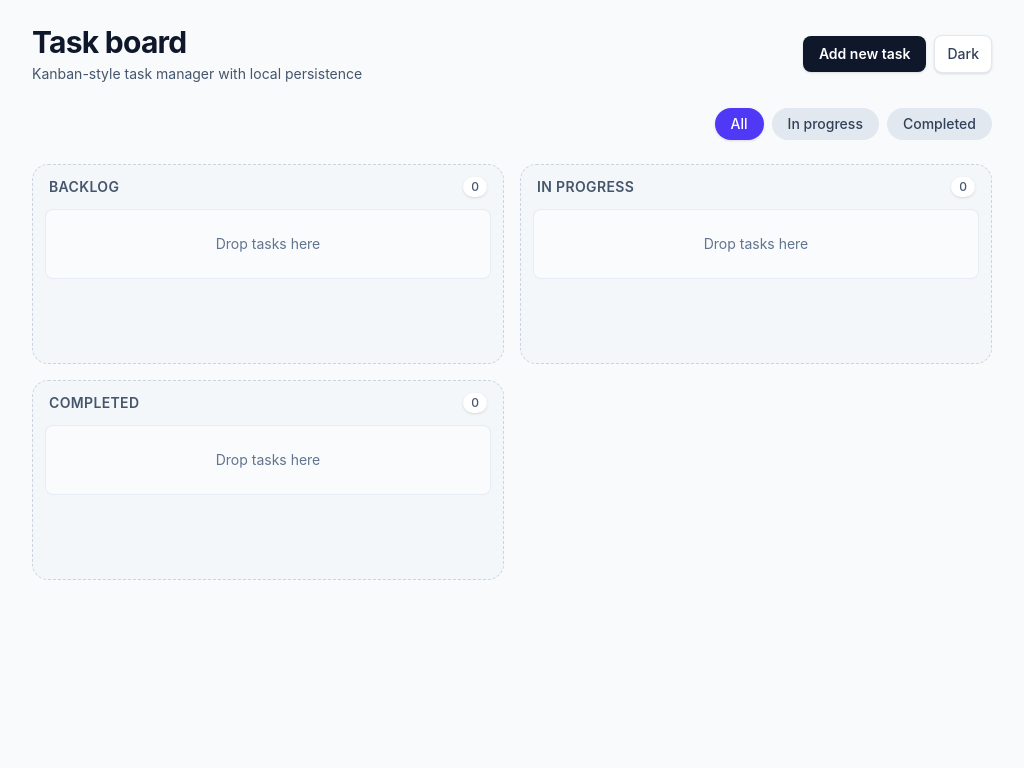
Test: App › deletes task when confirm is accepted
Click the button "Add new task" at point(865, 54), box [803, 36, 926, 72]
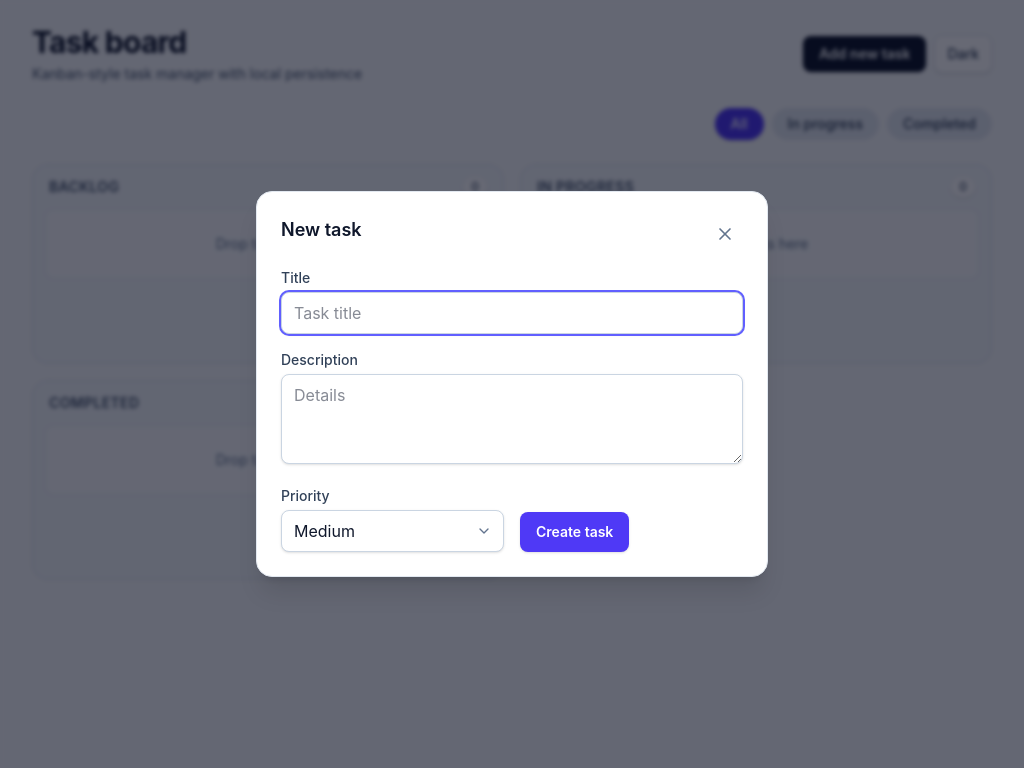
Type "Remove me" into the field with placeholder "Task title" at point(512, 313), box [281, 292, 743, 334]
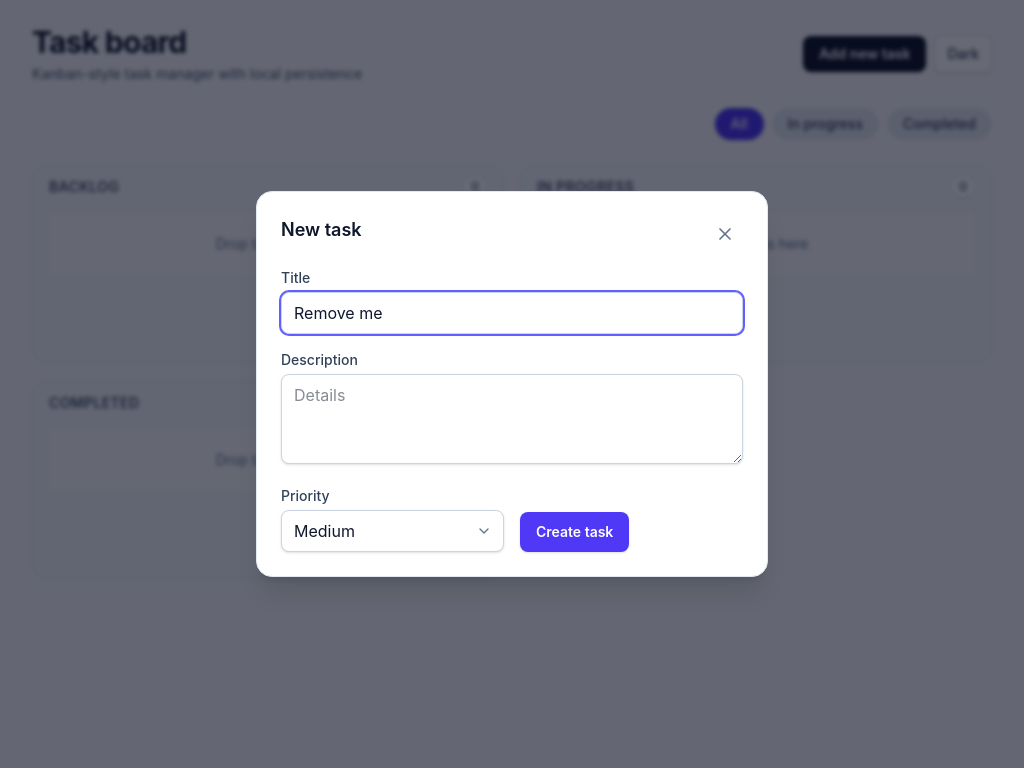
Click the button "Create task" at point(575, 532), box [520, 512, 629, 552]
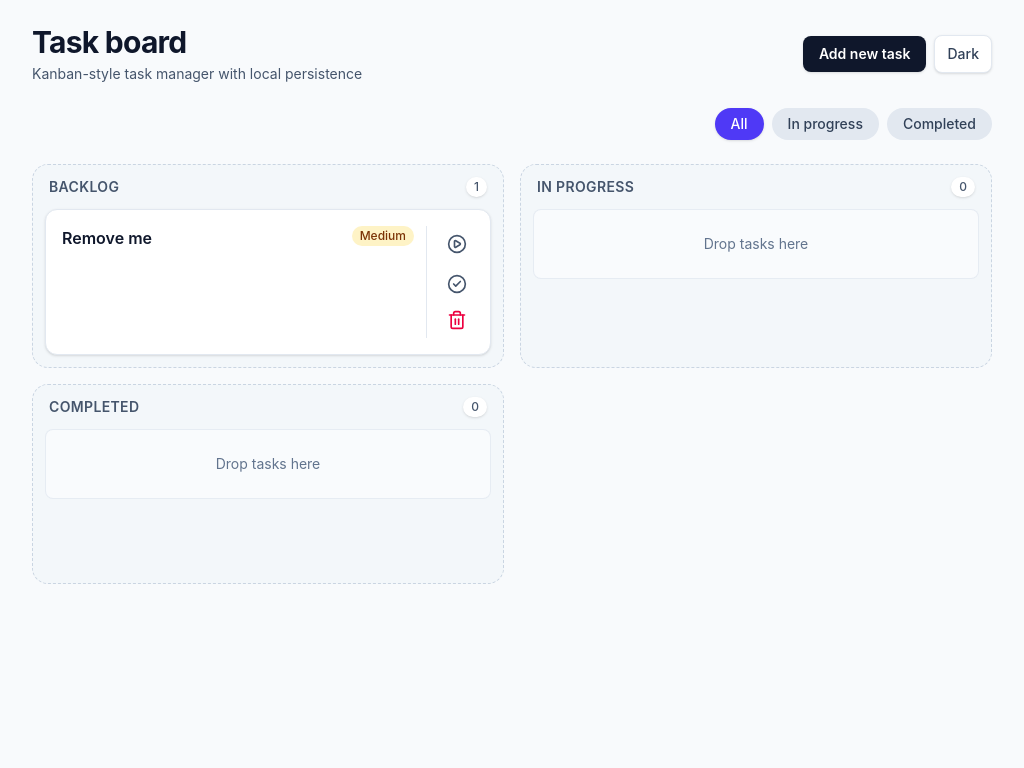
Click the button named "Delete task" at point(456, 320), box [438, 302, 474, 338]
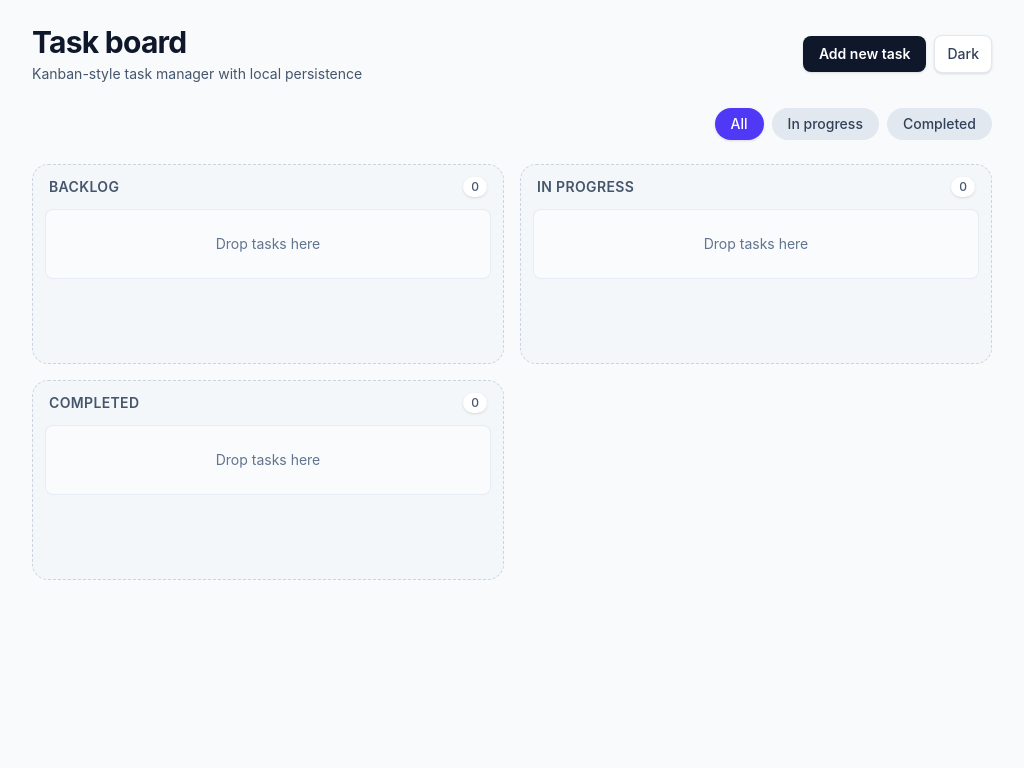
Expected: the heading "Remove me" is gone
